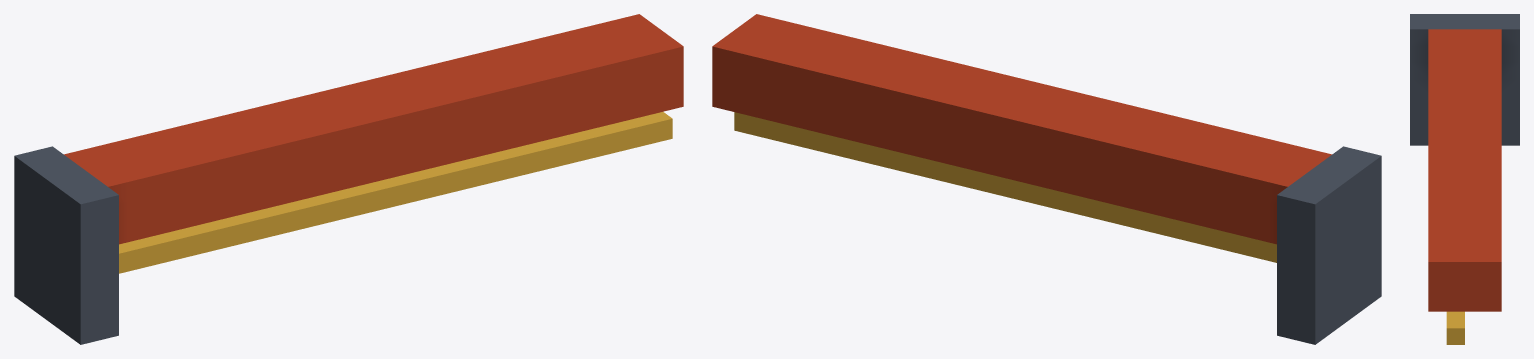
The model's file is pad_arm_e3.glb.
3 renders of one model, left to right at view 1: azimuth 30°, elevation 25°; view 2: azimuth 150°, elevation 25°; view 3: azimuth 270°, elevation 25°, orthographic. The views are drawn at different scales.
Visible parts, largest first — view 1: Base; view 2: Base; view 3: Base.
Part boxes in pixels (<box>): Base: <box>14,14,683,344</box>; Base: <box>712,14,1381,344</box>; Base: <box>1410,14,1519,344</box>.
Bounding box in the file's own units: 3.2 × 0.7 × 0.6.
